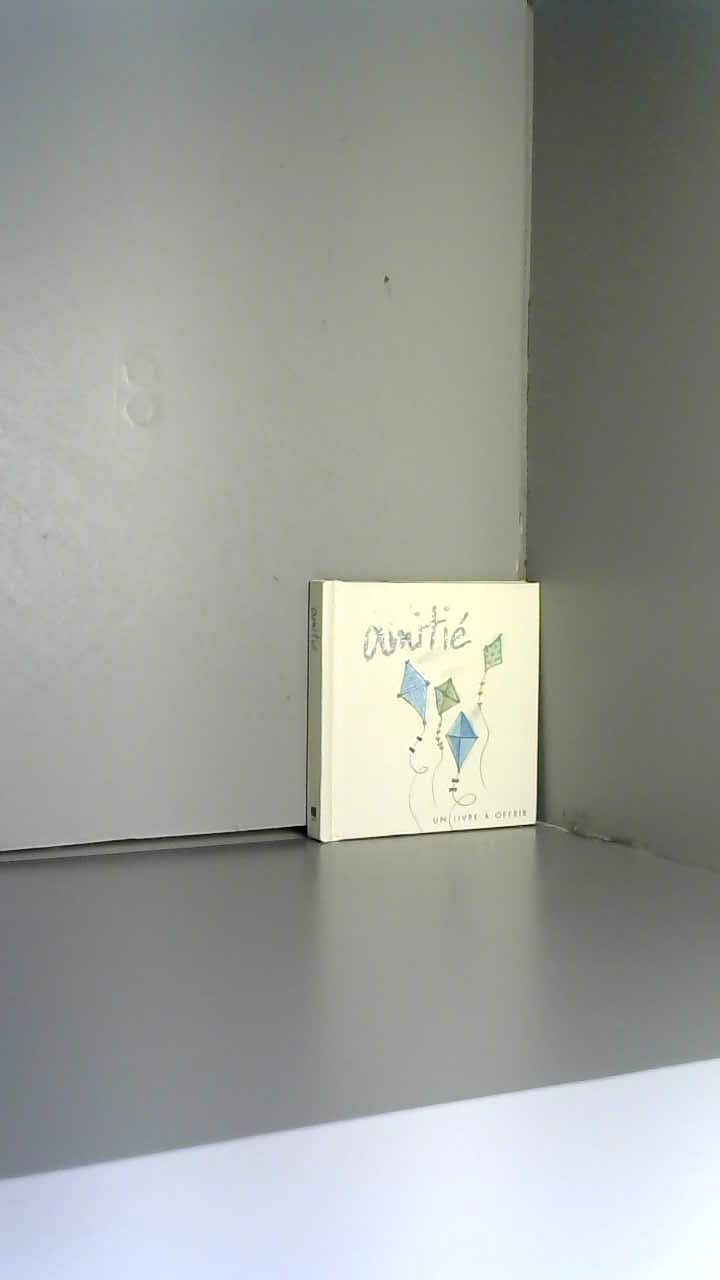book: (291, 560, 556, 856)
